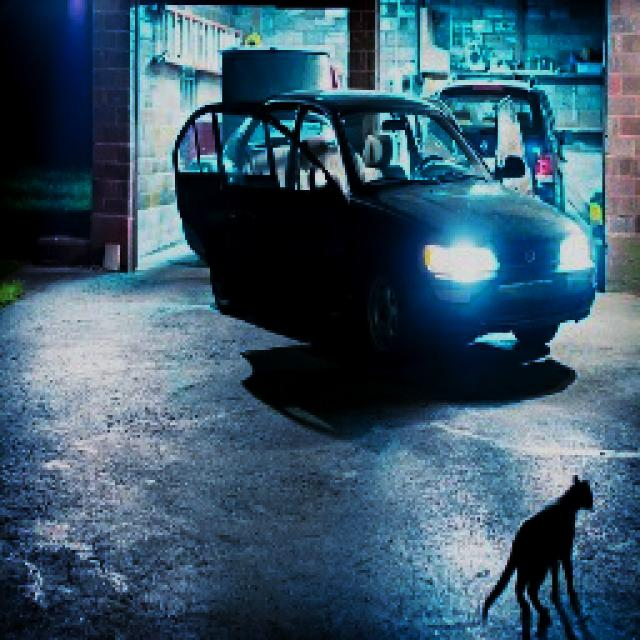cat: (472, 450, 618, 636)
